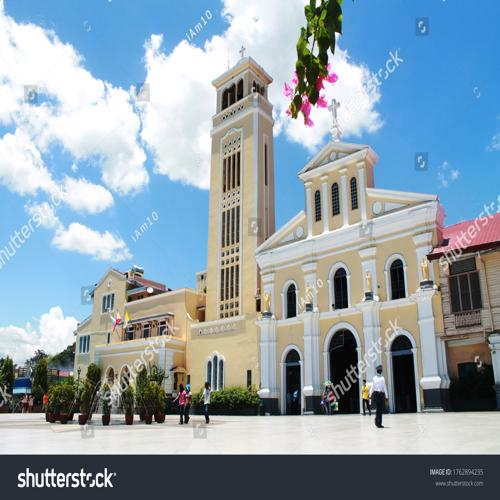Manaoag Church: (195, 37, 447, 419)
